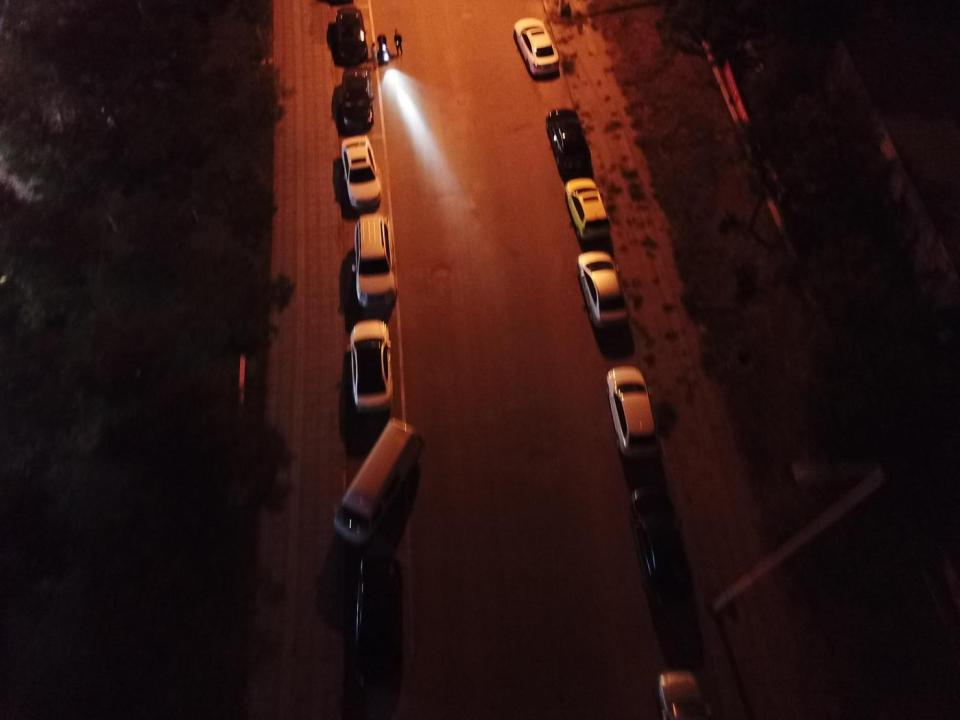car: (351, 556, 403, 687), (629, 484, 686, 588), (606, 366, 658, 458), (347, 319, 394, 413), (351, 214, 397, 309), (576, 250, 628, 330), (341, 134, 382, 210), (545, 108, 591, 173), (564, 178, 610, 240), (514, 17, 560, 76), (340, 66, 374, 132), (335, 7, 369, 64)
van: (333, 417, 424, 548)
